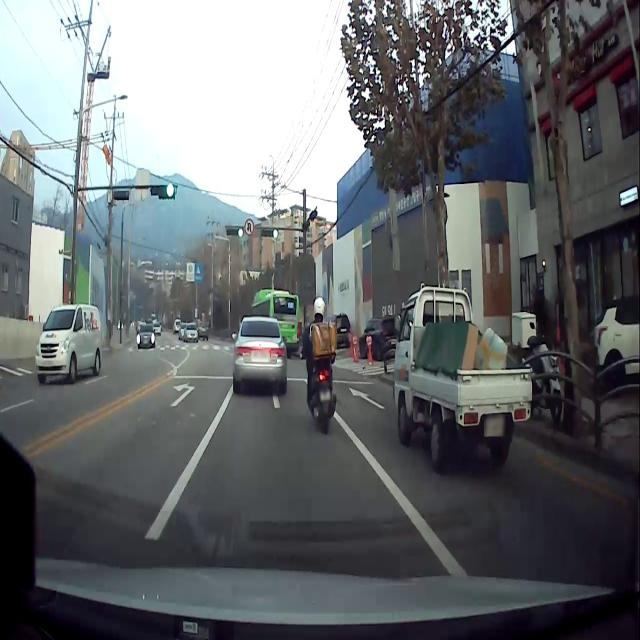Green Light: (166, 183, 175, 197), (237, 226, 244, 237), (272, 228, 279, 239)
